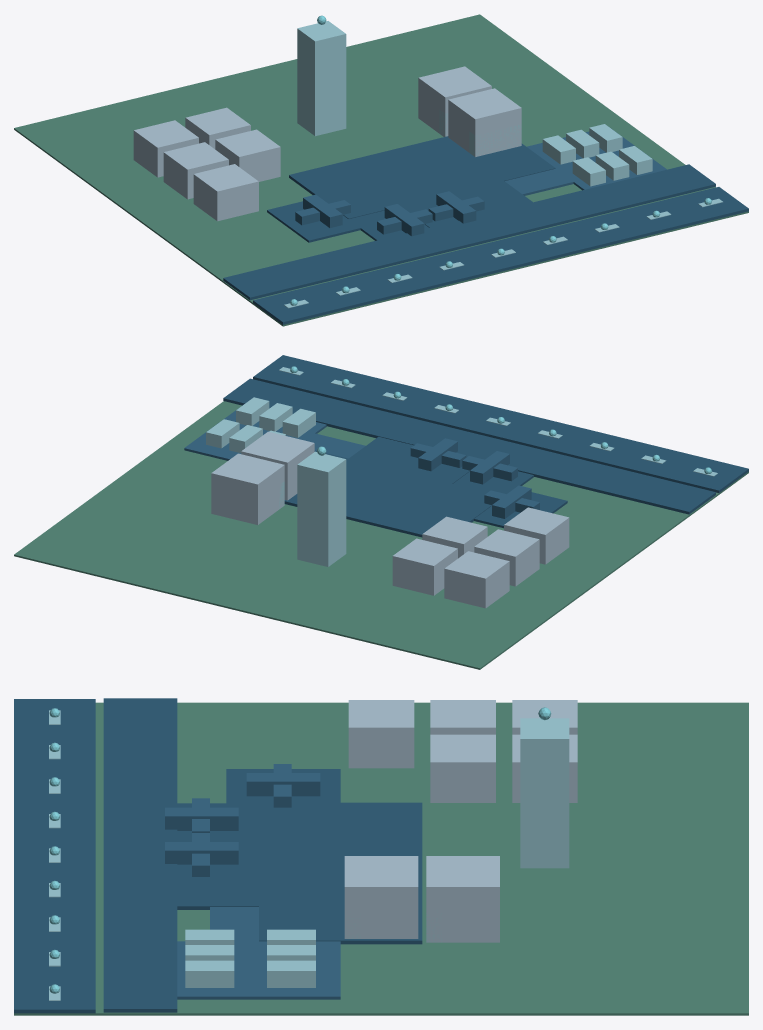
File: stage_19.glb
3 renders of one model, top to bottom at view 1: azimuth 30°, elevation 25°; view 2: azimuth 150°, elevation 25°; view 3: azimuth 270°, elevation 25°, orthographic. The views are drawn at different scales.
Parts seen in each view (by area): view 1: geometry_0; view 2: geometry_0; view 3: geometry_0.
Part boxes in pixels (x1,y1,x2,y2): geometry_0: [14, 14, 748, 326]; geometry_0: [14, 355, 748, 669]; geometry_0: [14, 698, 748, 1015].
Size of the model in its own units: 9 by 2.06 by 9.
